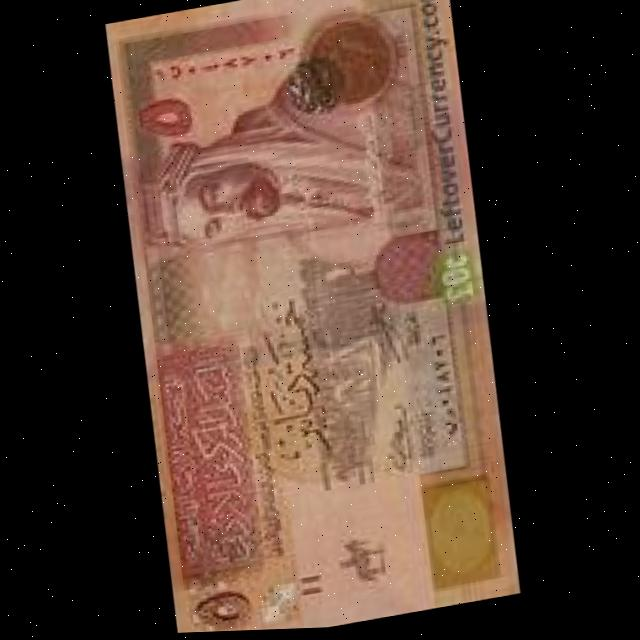banknote: (89, 0, 533, 637)
